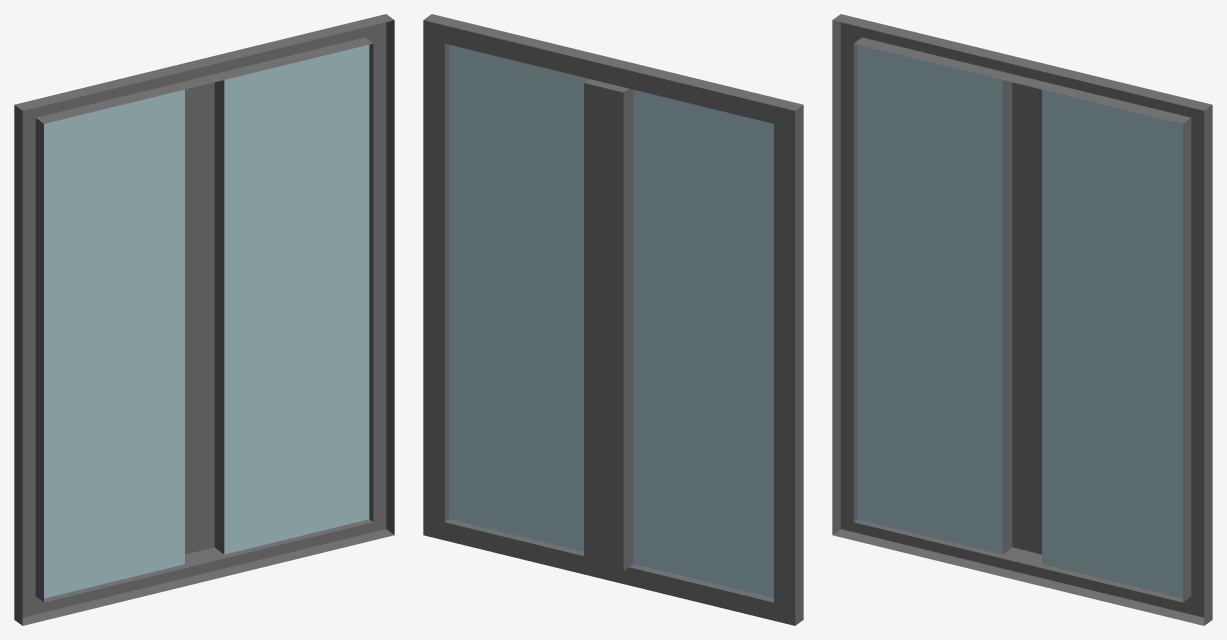
The model's file is New_Flat_window_1.fbx.
3 renders of one model, left to right at view 1: azimuth 30°, elevation 25°; view 2: azimuth 150°, elevation 25°; view 3: azimuth 330°, elevation 25°, orthographic.
Parts seen in each view (by area): view 1: New_Flat_window_1; view 2: New_Flat_window_1; view 3: New_Flat_window_1.
Boxes of the visible parts, bbox=[...] form: New_Flat_window_1: bbox=[14, 14, 394, 625]; New_Flat_window_1: bbox=[423, 14, 803, 625]; New_Flat_window_1: bbox=[832, 14, 1212, 625].
Size of the model in its own units: 2.39 by 0.155 by 3.16.
